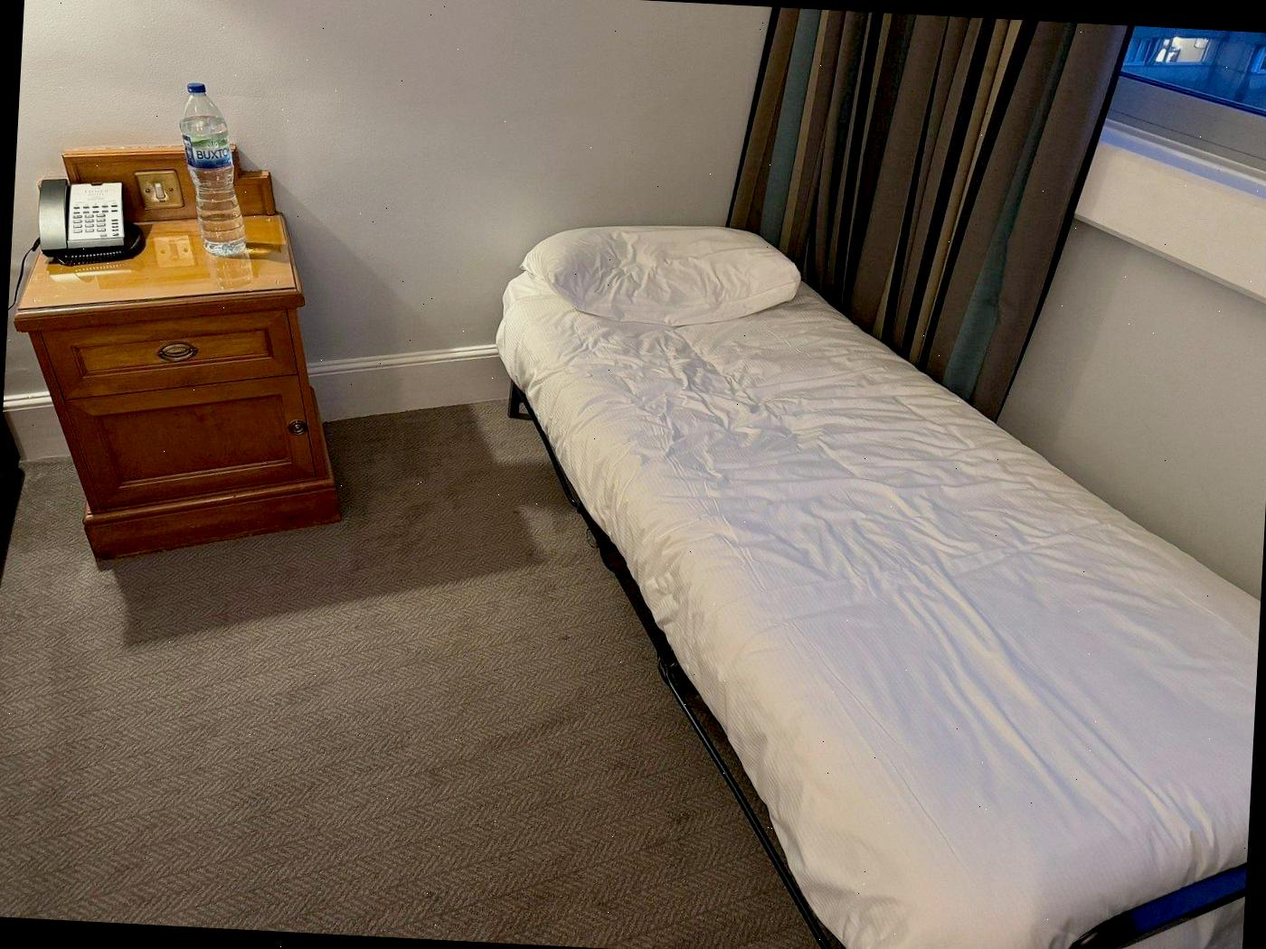clean_floor: (0, 407, 795, 945), (12, 158, 347, 565)
messy_bed: (507, 231, 1255, 949)
